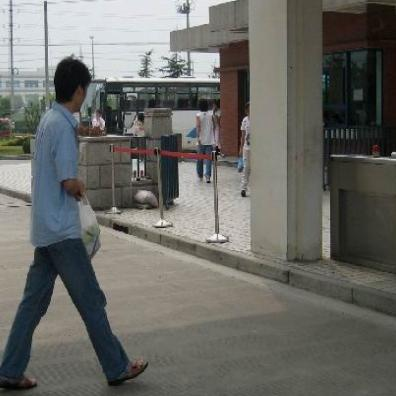ped: (1, 58, 150, 388), (200, 99, 218, 182)
